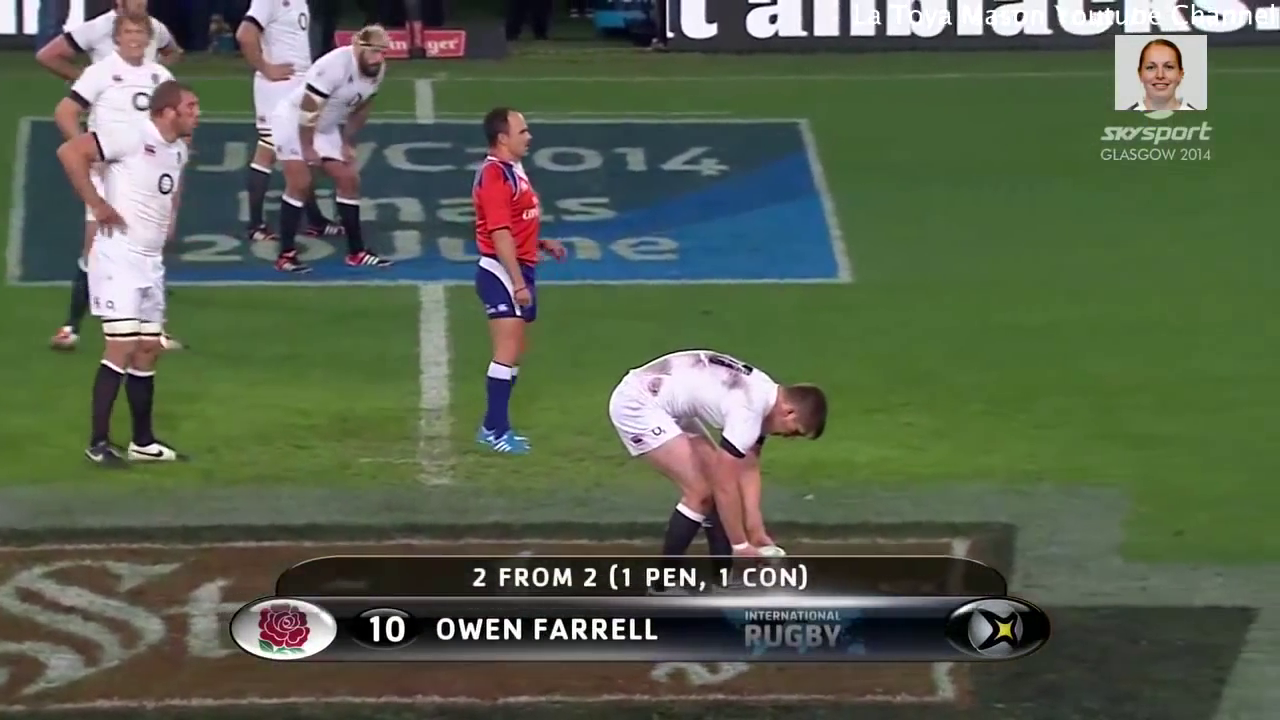player: (57, 77, 209, 480), (603, 340, 834, 553), (451, 100, 561, 469), (270, 28, 389, 281), (234, 1, 322, 235), (43, 6, 195, 122)
